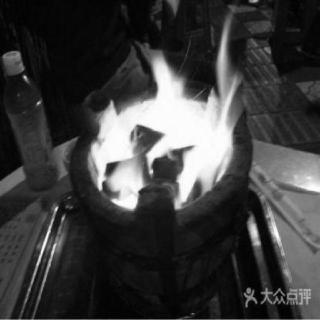Fire: (76, 7, 254, 213)
